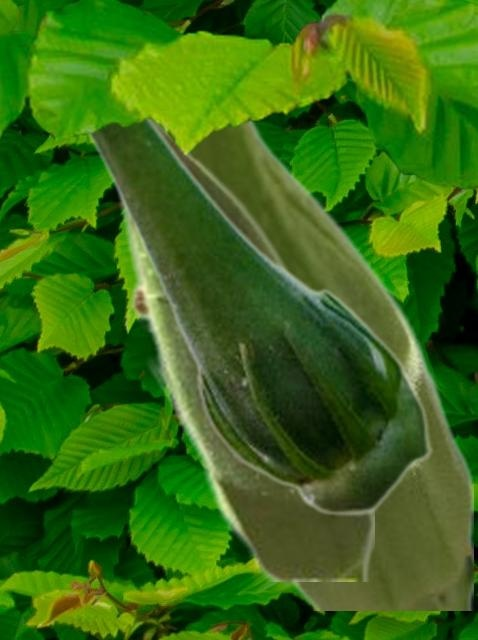okra: (86, 120, 431, 516), (194, 122, 472, 609), (108, 134, 373, 580)
